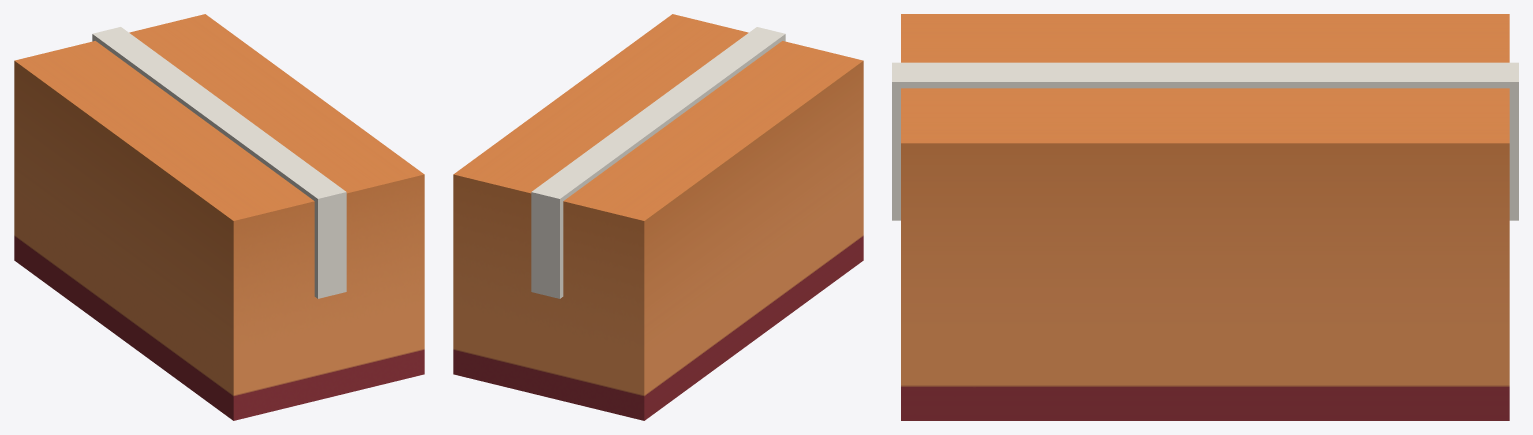
The model's file is Prop_Box02.fbx.
3 views of the same model, side by side, from view 1: azimuth 30°, elevation 25°; view 2: azimuth 150°, elevation 25°; view 3: azimuth 270°, elevation 25° (orthographic). The views are drawn at different scales.
Parts seen in each view (by area): view 1: Prop_Box02; view 2: Prop_Box02; view 3: Prop_Box02.
Part boxes in pixels (<box>): Prop_Box02: <box>14,14,424,420</box>; Prop_Box02: <box>453,14,863,420</box>; Prop_Box02: <box>892,14,1518,420</box>.
Size of the model in its own units: 200 by 205 by 409.
